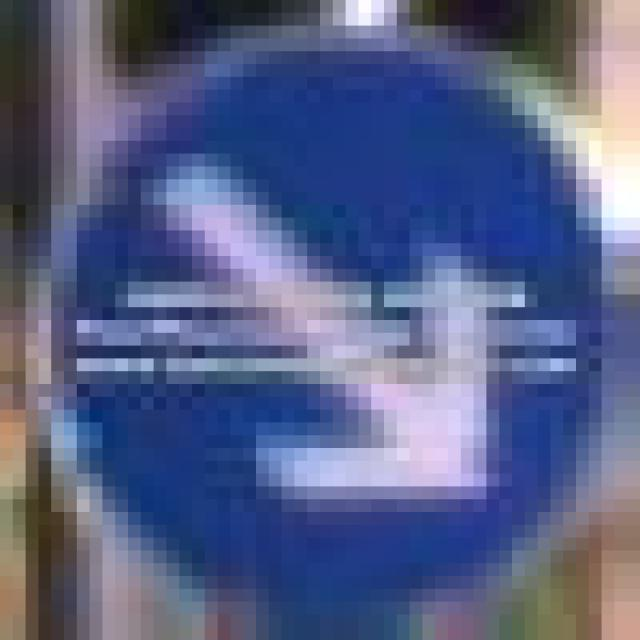compulsory_keep_left: (0, 0, 627, 602)
